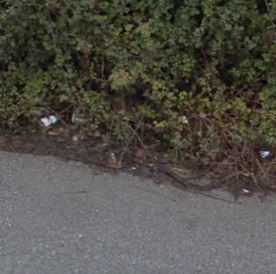trash: (30, 107, 62, 127)
